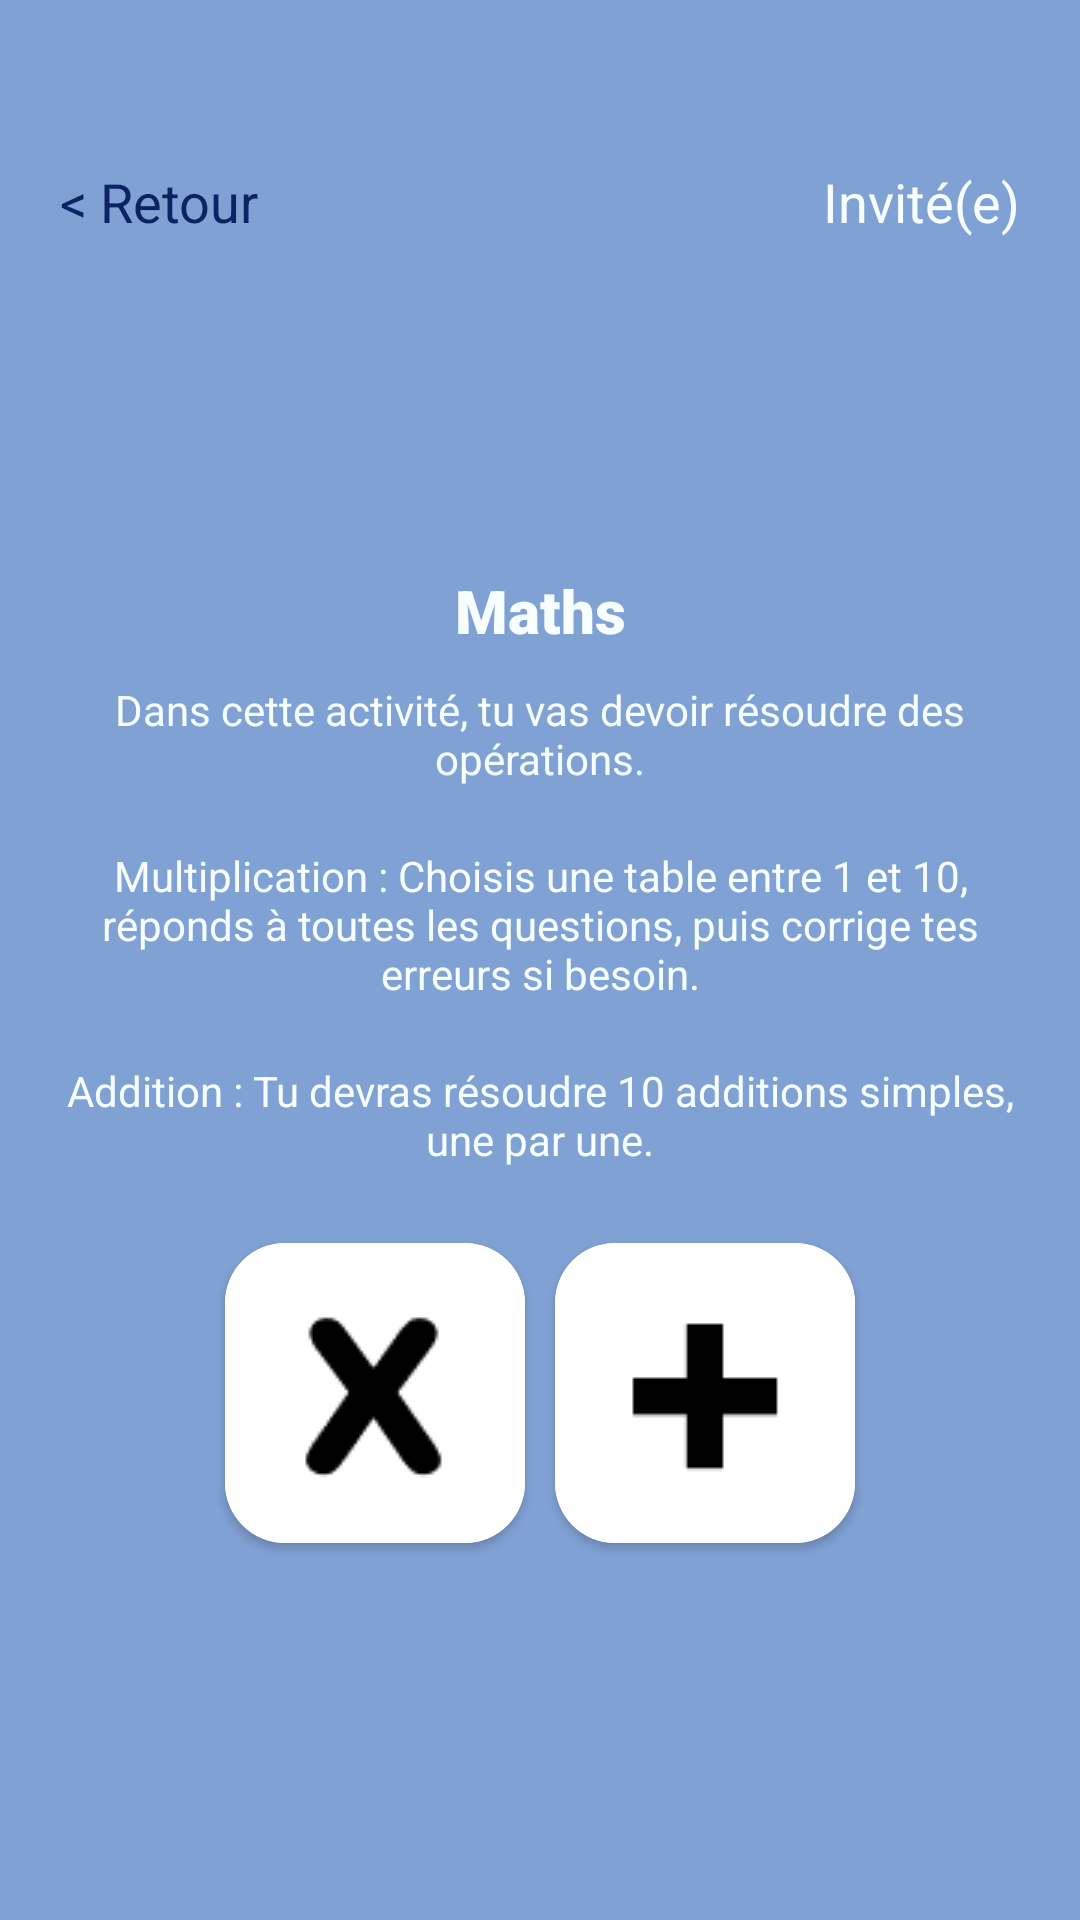

Named icons in this screenshot (1080 x 1920) and their bounding boxes, (x1, y1, x2, y2):
Multiplication: (225, 1243, 525, 1543)
